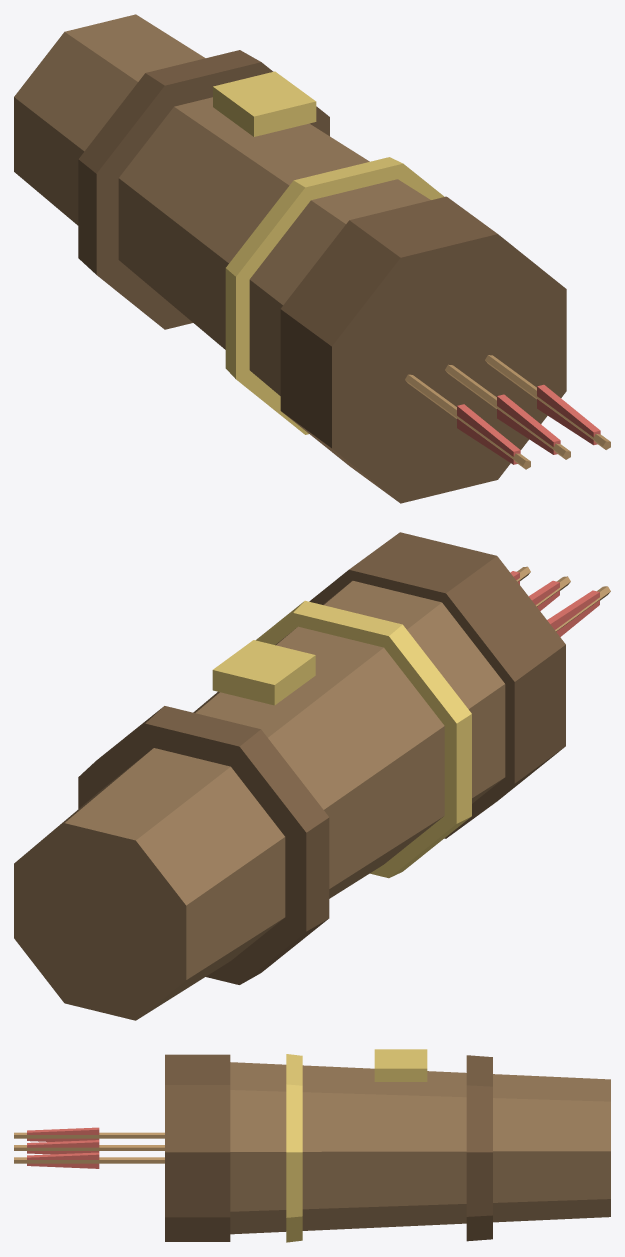
File: quiver.glb
The picture shows the model from 3 angles, top to bottom: view 1: azimuth 30°, elevation 25°; view 2: azimuth 150°, elevation 25°; view 3: azimuth 270°, elevation 25°; orthographic projection. The views are drawn at different scales.
Visible parts, largest first — view 1: Quiver; view 2: Quiver; view 3: Quiver.
Part boxes in pixels (left/top/right/bottom): Quiver: left=14, top=14, right=610, bottom=503; Quiver: left=14, top=532, right=610, bottom=1020; Quiver: left=14, top=1049, right=610, bottom=1242.
Bounding box in the file's own units: 0.2661 × 0.283 × 0.91.
